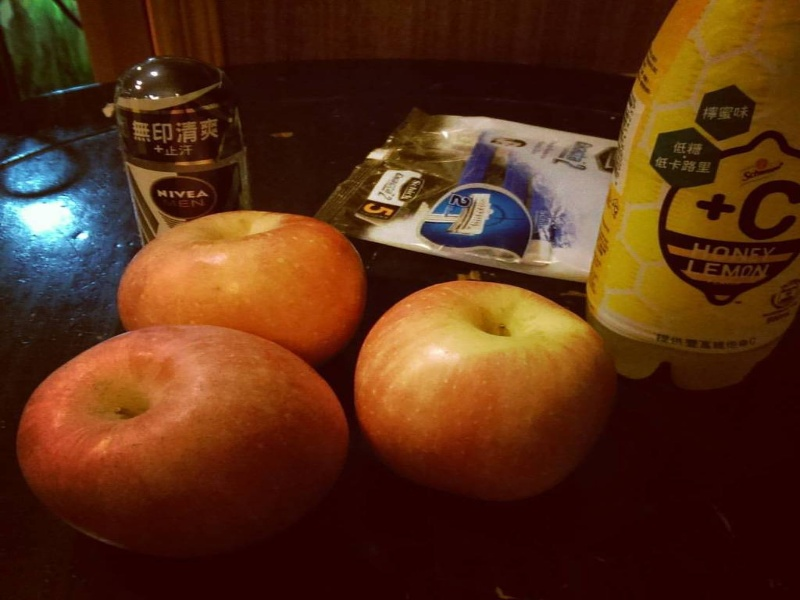apple: (15, 318, 352, 555), (360, 279, 623, 498), (108, 200, 370, 340)
